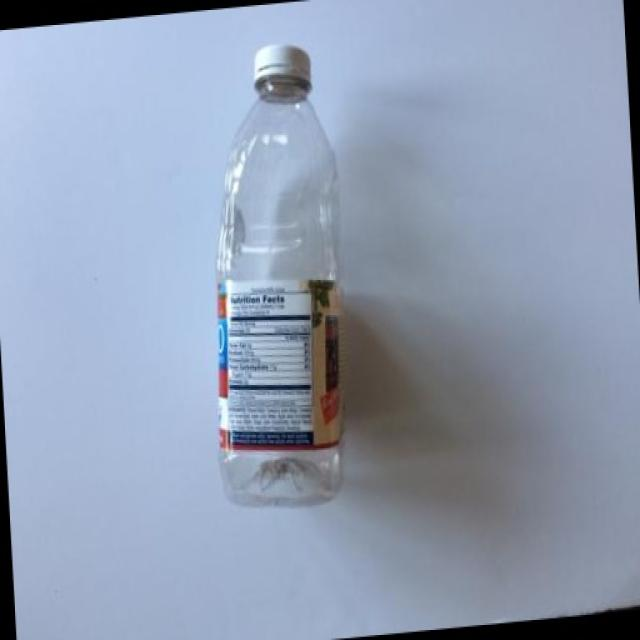plastico: (195, 26, 381, 574)
